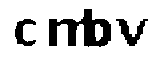b: (86, 5, 113, 50)
c: (10, 15, 38, 48)
m: (45, 16, 90, 50)
v: (114, 13, 148, 49)
